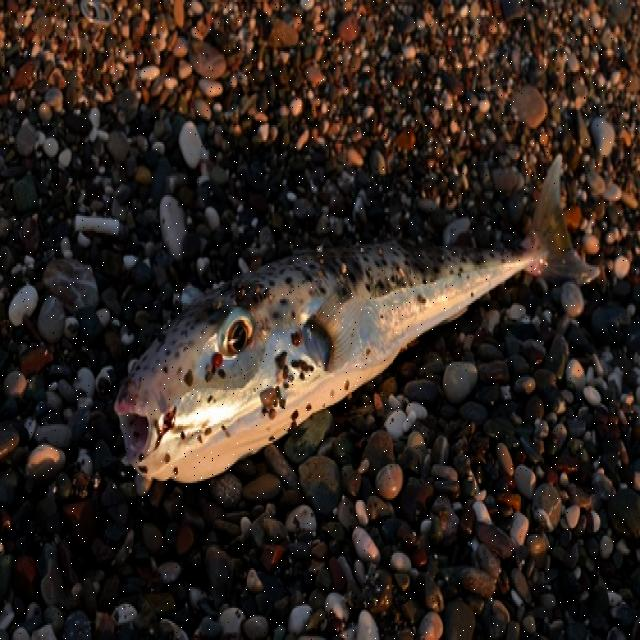Balik: (116, 158, 599, 482)
